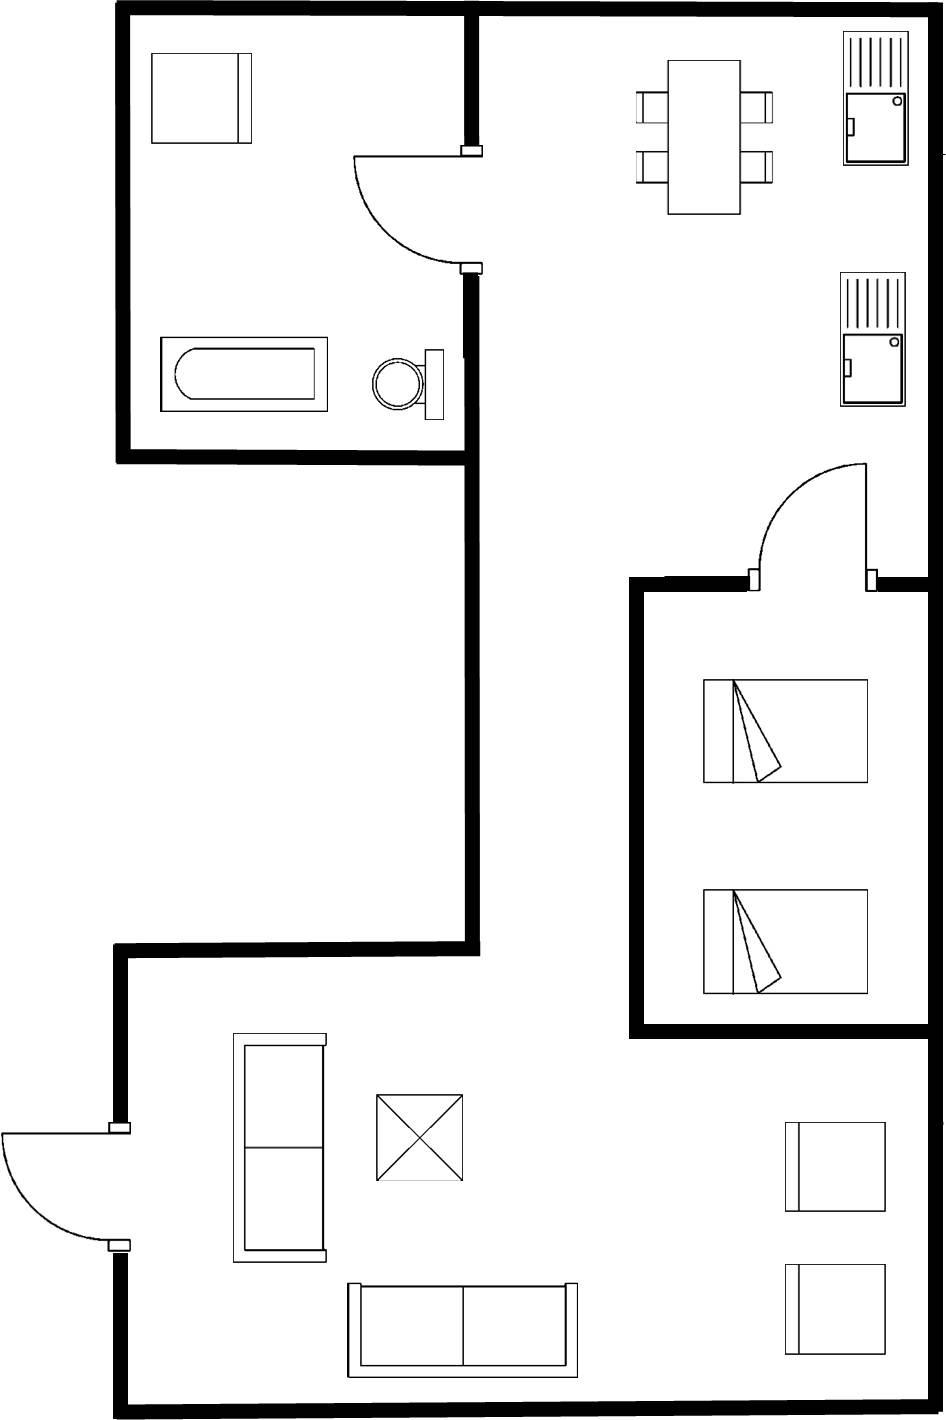bed: (694, 668, 878, 795), (690, 877, 876, 1002)
dining_table: (621, 49, 784, 227)
sink: (832, 18, 917, 177), (832, 264, 911, 413)
sofa: (222, 1024, 337, 1271), (341, 1275, 587, 1384)
toilet: (361, 341, 451, 430)
tub: (151, 327, 337, 420)
